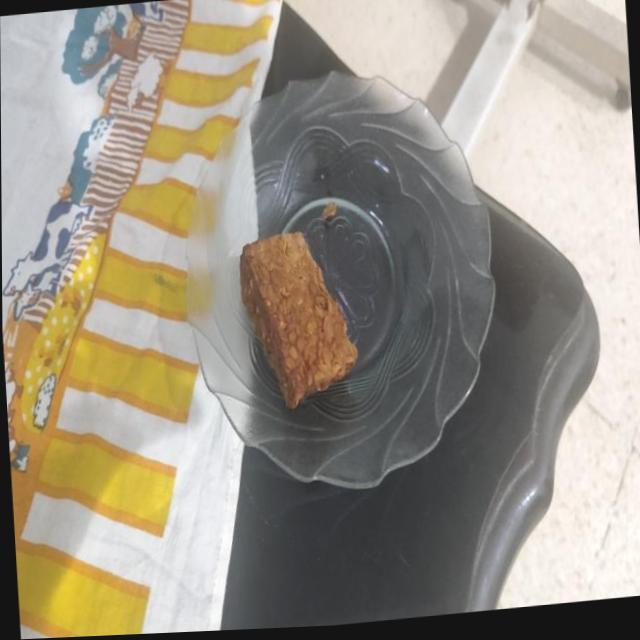tempe_goreng: (240, 232, 357, 408)
